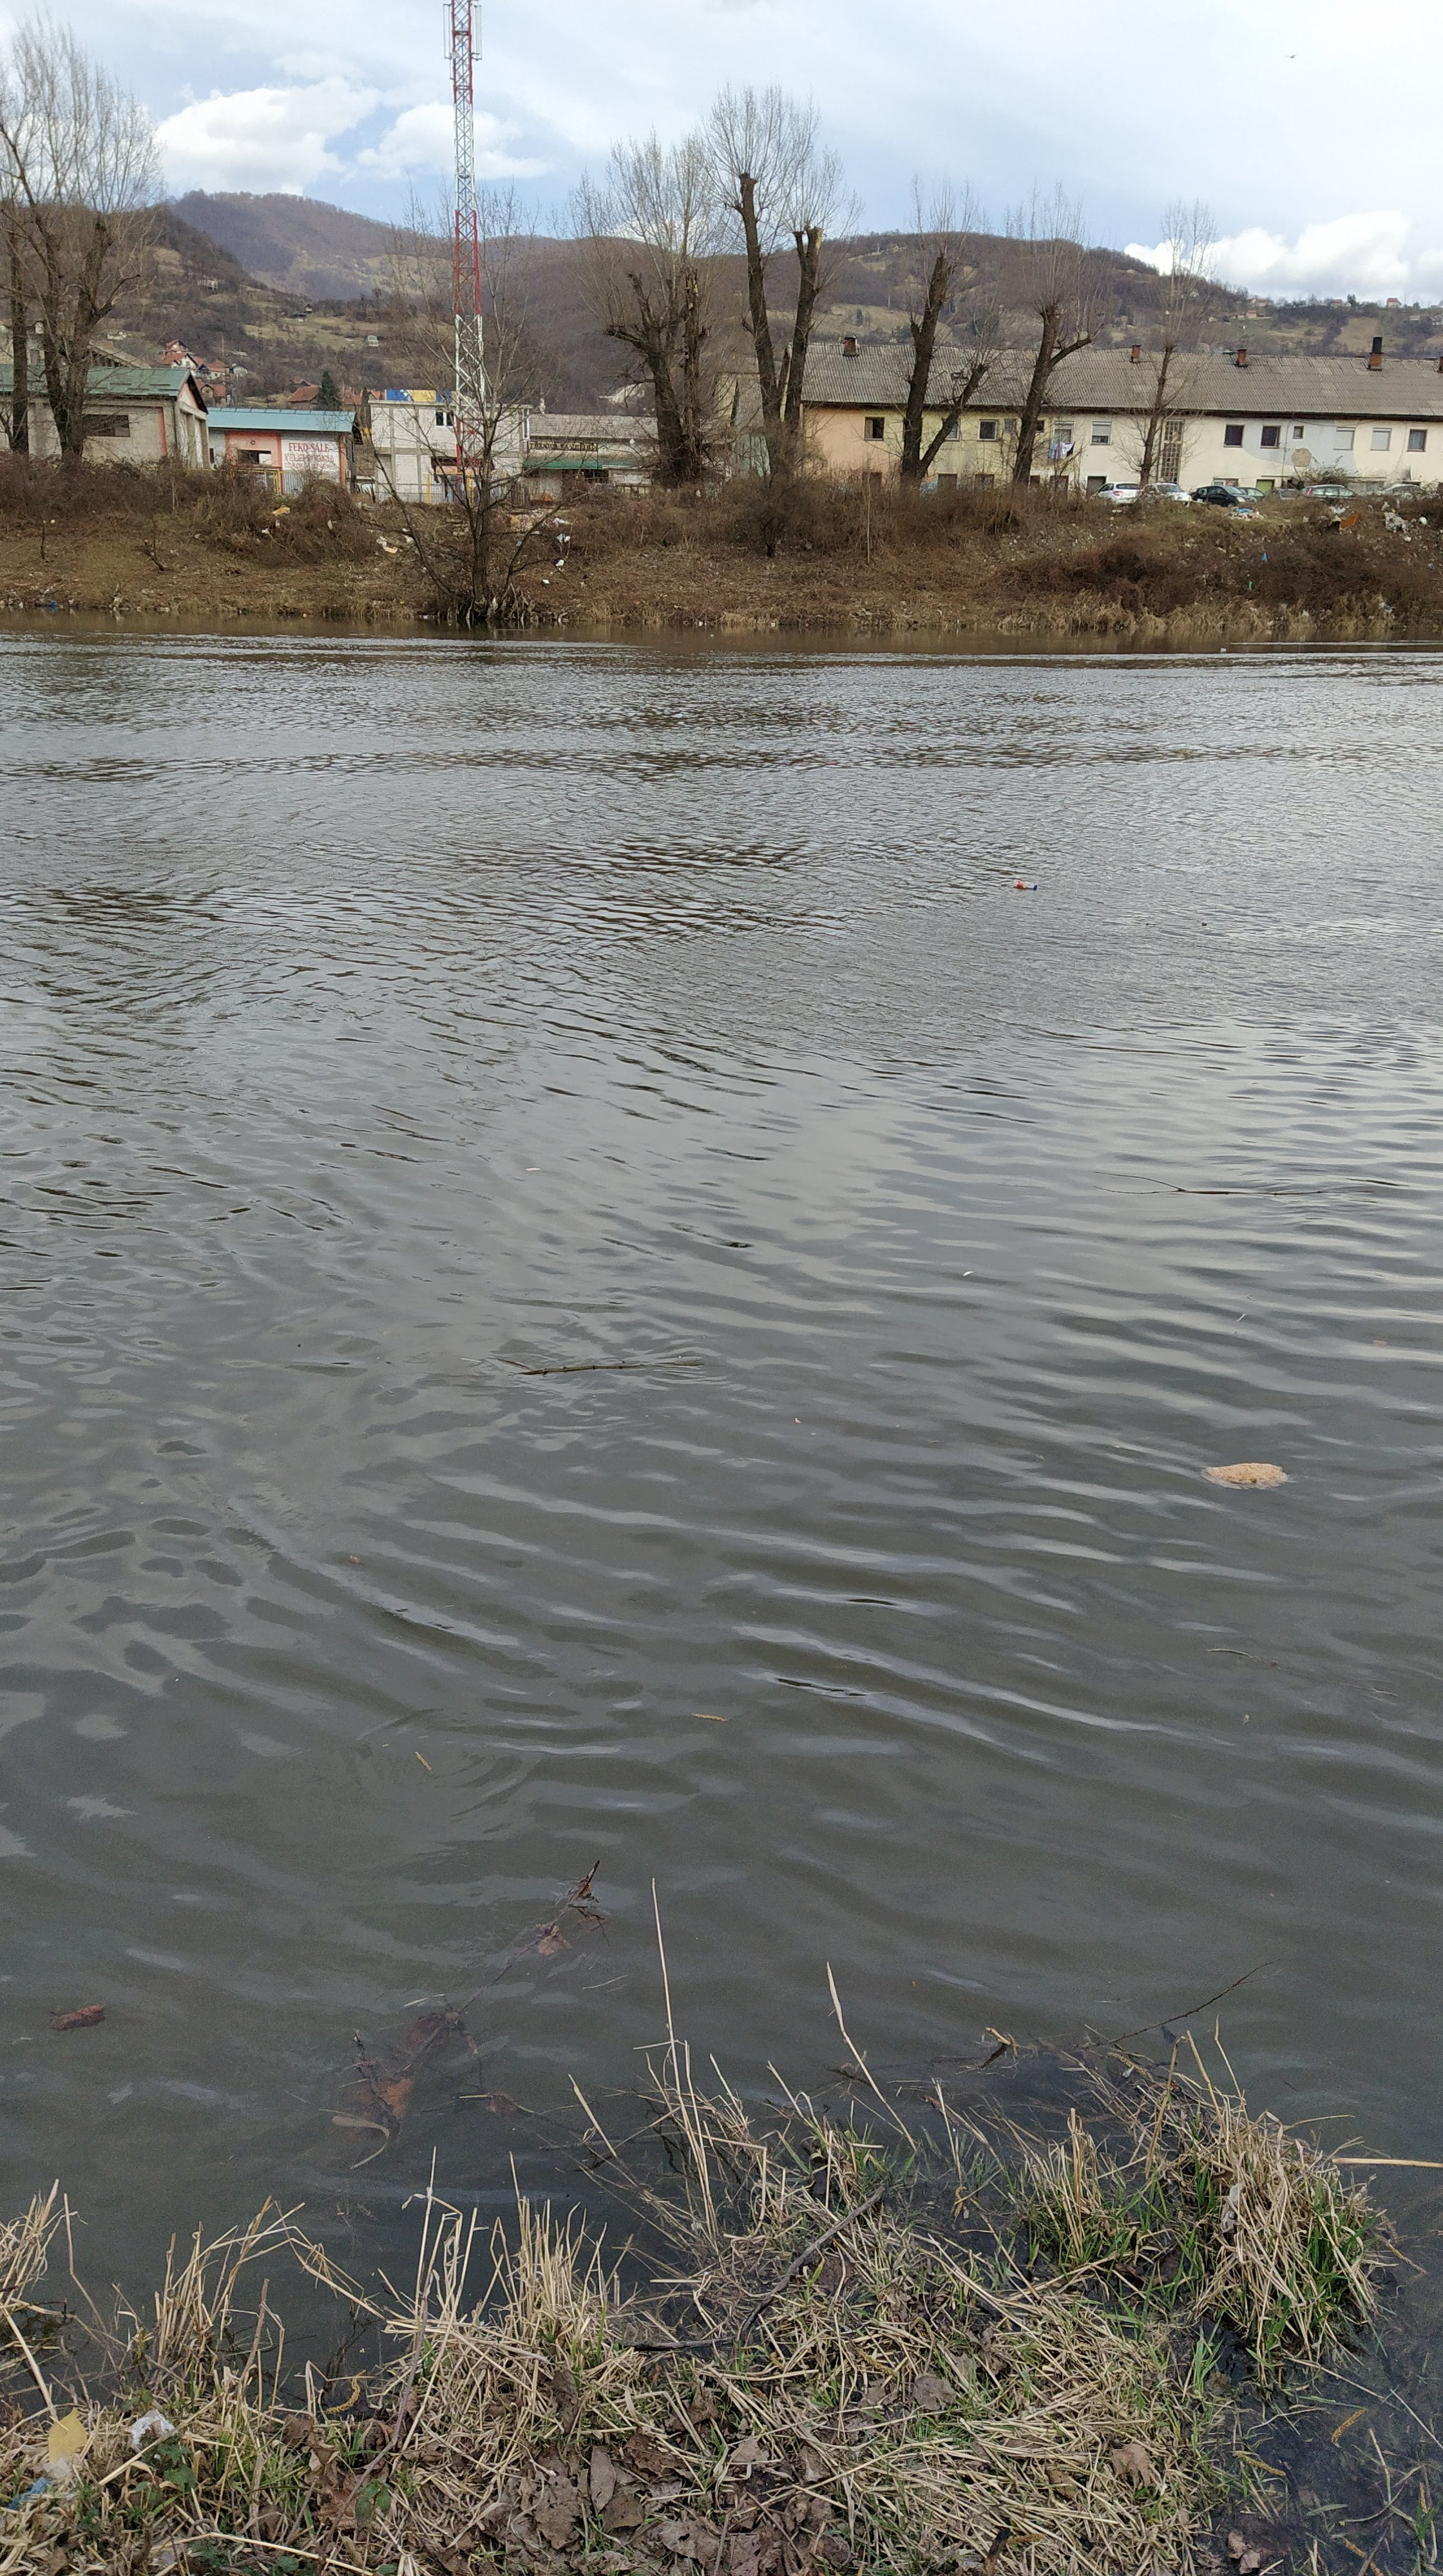Plastic Bottle: (1013, 879, 1036, 890), (1220, 648, 1225, 651)
